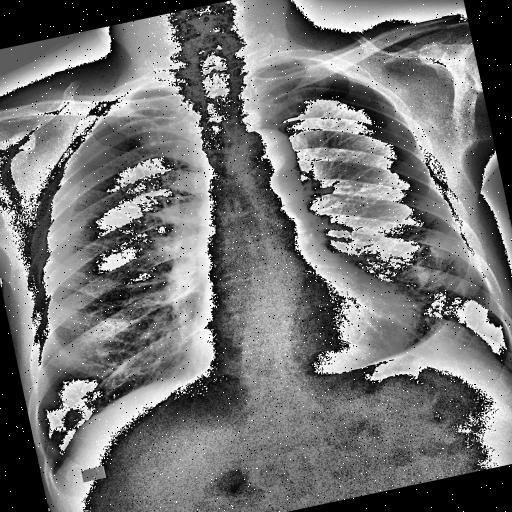0- Aortic enlargement: (237, 124, 296, 176)
11- Pleural thickening: (432, 309, 462, 345)
13- Pulmonary fibrosis: (412, 237, 475, 332)
9- Other lesion: (420, 284, 494, 376)
